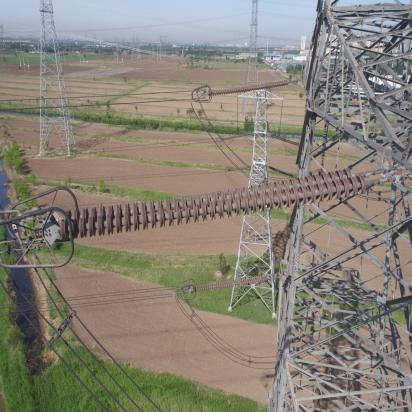insulator: (57, 166, 380, 246), (209, 79, 295, 97), (192, 275, 271, 294)
